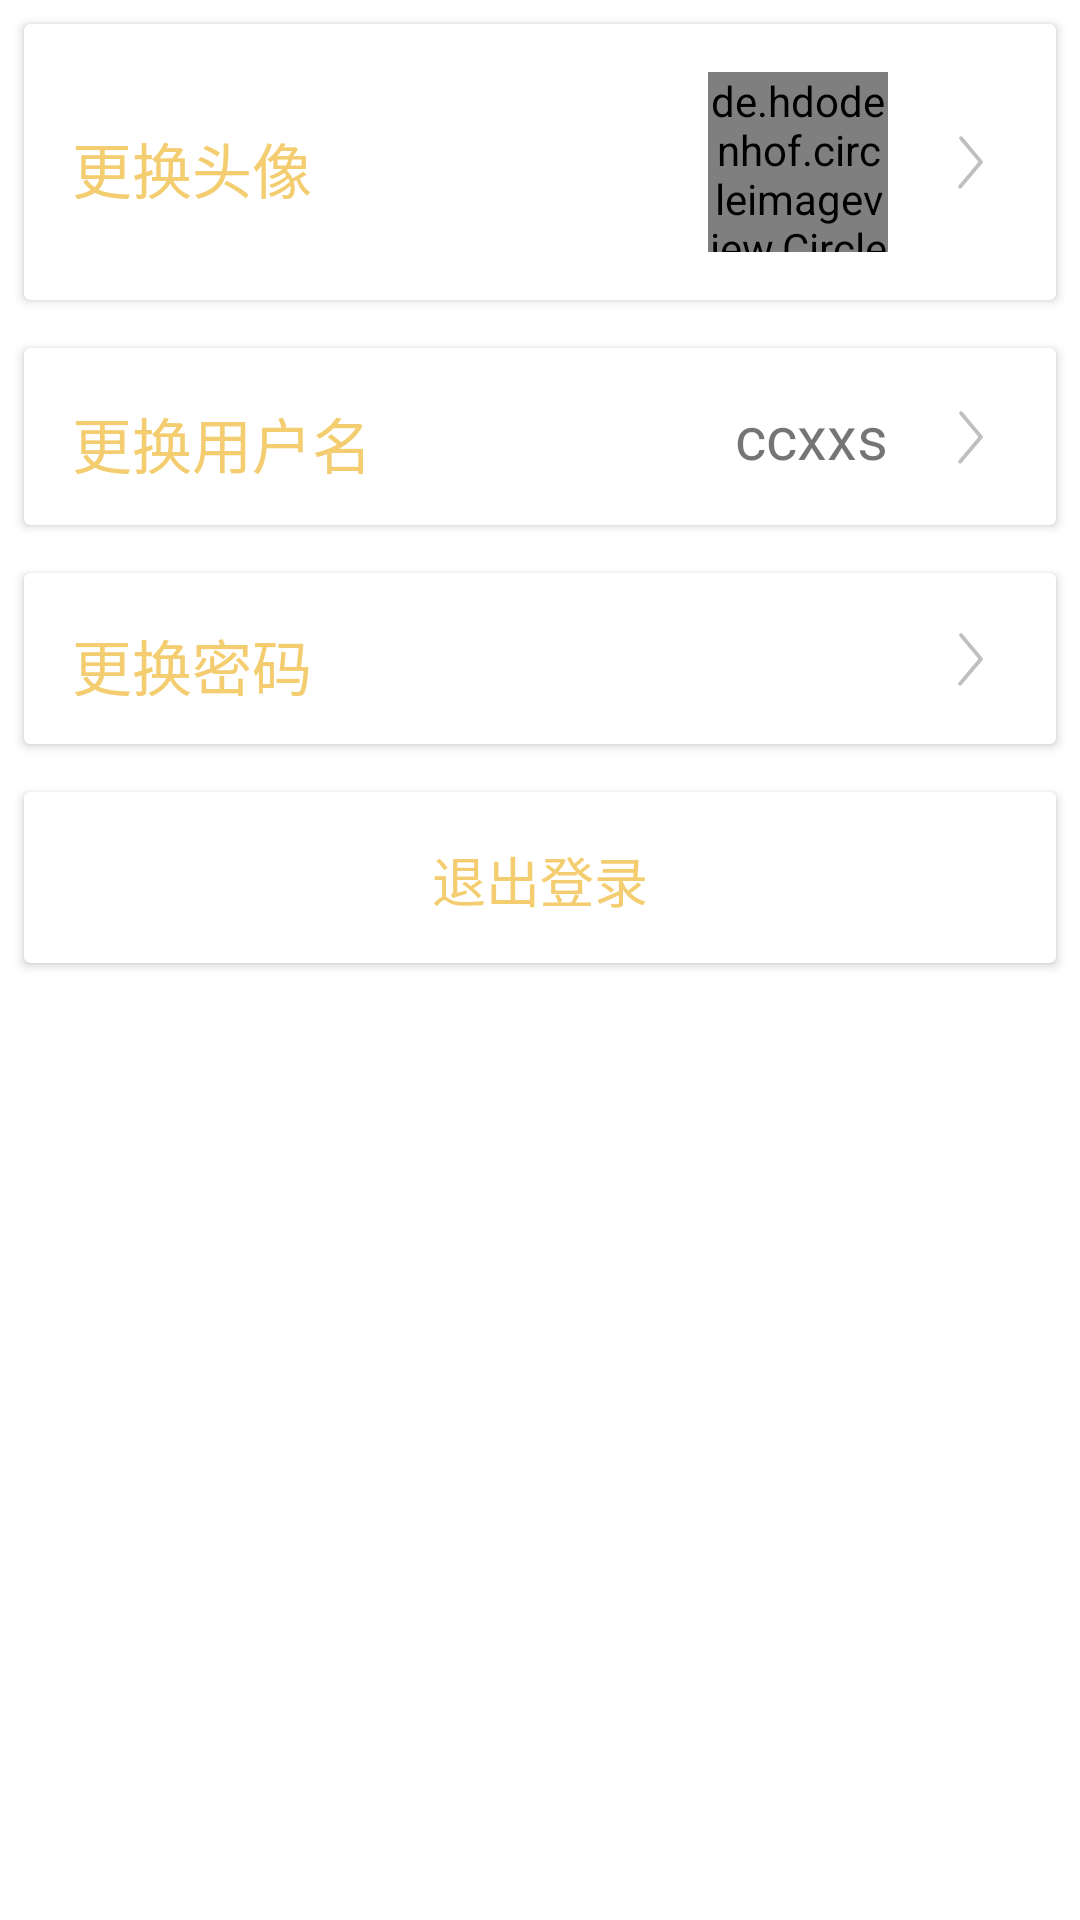

Icons on this 1080px×1920px Android screen, each with the point to tap as point (x, y):
arrowright: point (970, 162), point (970, 437), point (970, 659)
